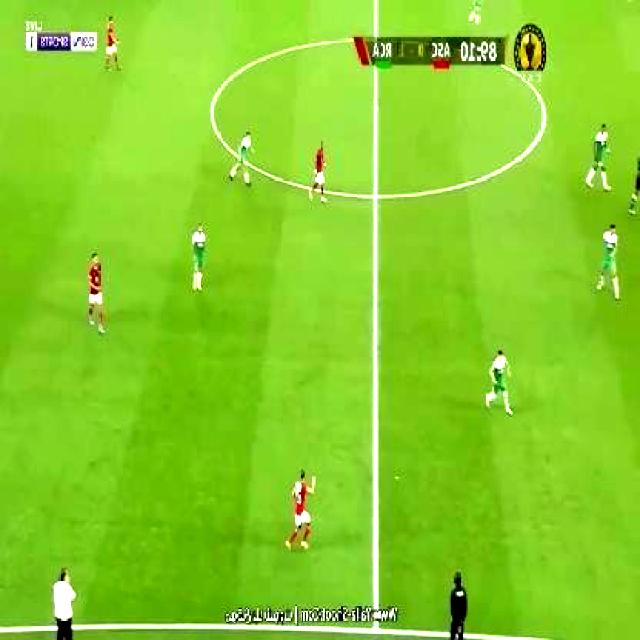halfcircle_bottom: (366, 180, 388, 214)
